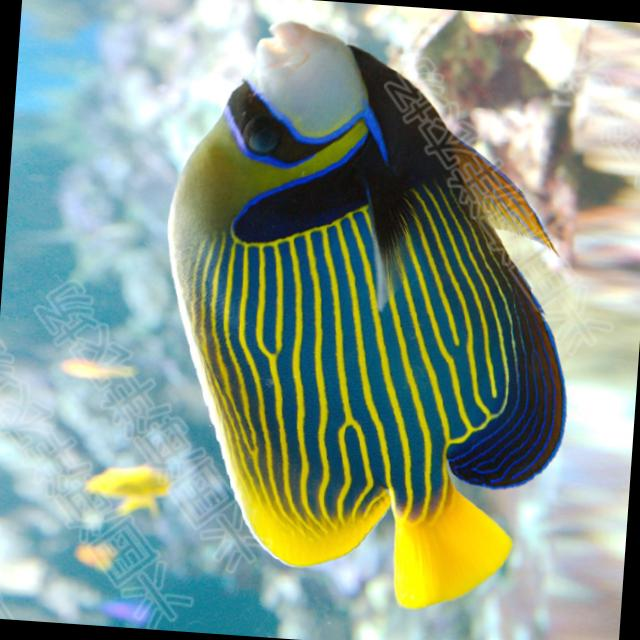AngelFish: (143, 11, 594, 612)
